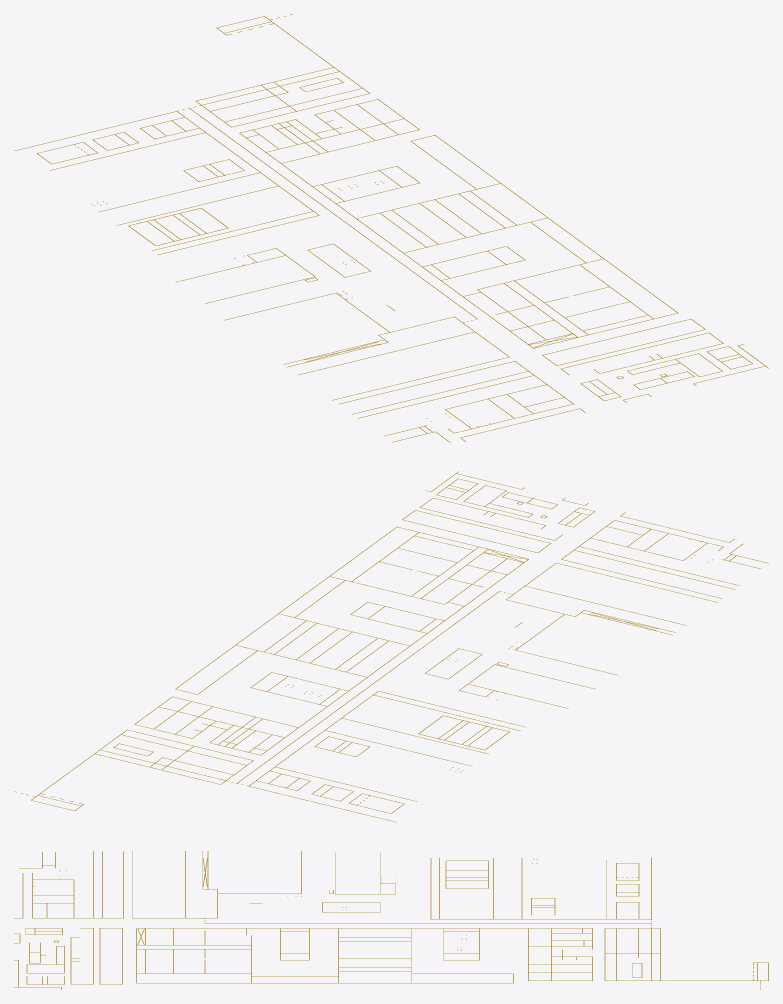
Rendered from YF_LJ_HuangXian.FBX.
3 views of the same model, one above another, from view 1: azimuth 30°, elevation 25°; view 2: azimuth 150°, elevation 25°; view 3: azimuth 270°, elevation 25° (orthographic). The views are drawn at different scales.
Parts seen in each view (by area): view 1: YF_Model_HuangXian; view 2: YF_Model_HuangXian; view 3: YF_Model_HuangXian.
Boxes of the visible parts, box(x1,y1,x2,y2) form: YF_Model_HuangXian: box(14, 14, 717, 375); YF_Model_HuangXian: box(14, 502, 562, 822); YF_Model_HuangXian: box(80, 857, 768, 989).
Bounding box in the file's own units: 4095 × 0.000376 × 9421.
